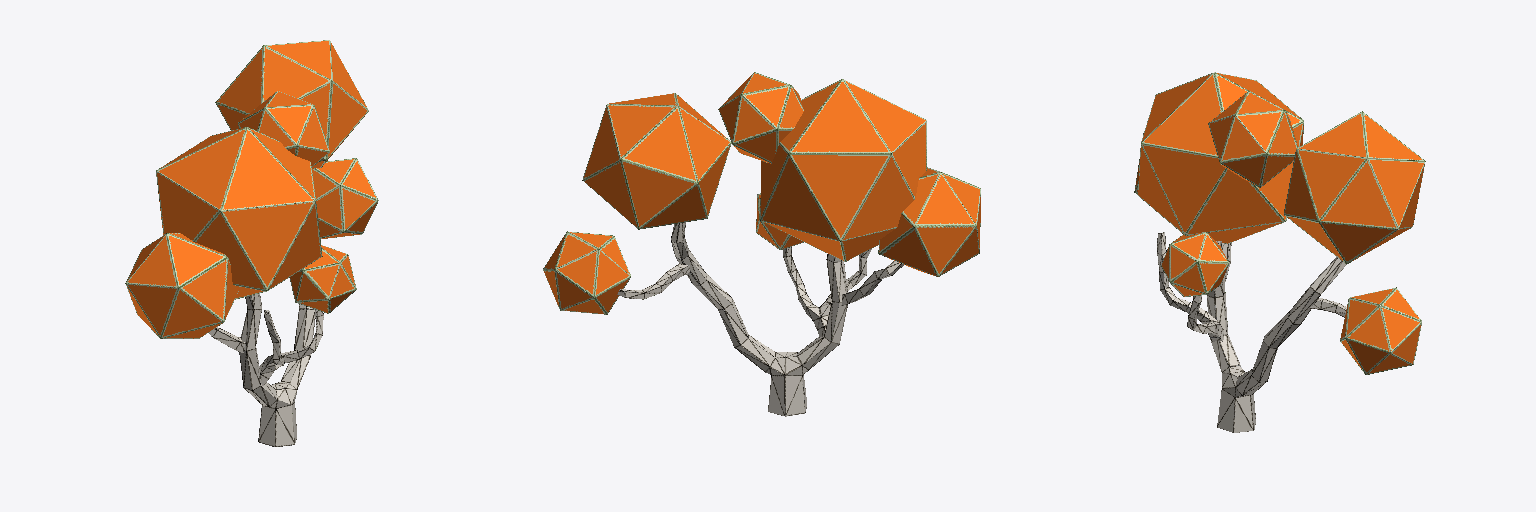
The picture shows the model from 3 angles: view 1: azimuth 30°, elevation 25°; view 2: azimuth 150°, elevation 25°; view 3: azimuth 270°, elevation 25°; orthographic projection.
Parts seen in each view (by area): view 1: Default; view 2: Default; view 3: Default.
Boxes of the visible parts, x1=… form: Default: x1=125, y1=40, x2=378, y2=446; Default: x1=543, y1=72, x2=980, y2=416; Default: x1=1134, y1=72, x2=1425, y2=432.
Size of the model in its own units: 27.98 by 26.54 by 20.8.
Materials: 2 (1 with a texture image).